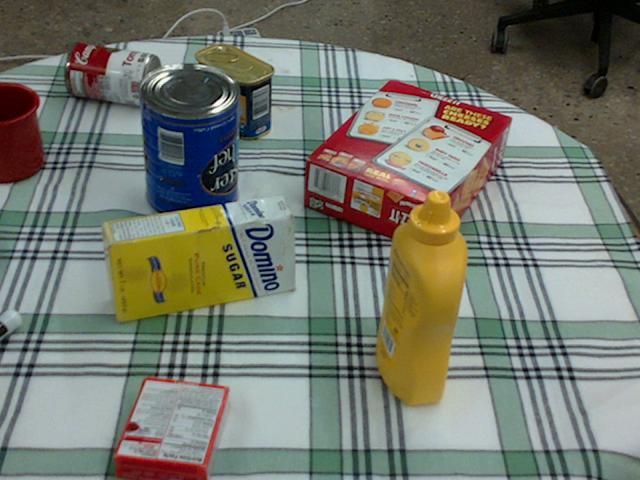cracker_box: (305, 80, 511, 253)
gelatin_box: (113, 377, 227, 479)
large_marker: (0, 308, 22, 339)
master_chef_can: (135, 63, 237, 225)
mug: (0, 81, 45, 180)
mustard_bottle: (376, 190, 466, 402)
potted_meat_can: (194, 44, 273, 138)
sugar_box: (100, 196, 295, 321)
tomato_soup_can: (65, 42, 161, 105)
